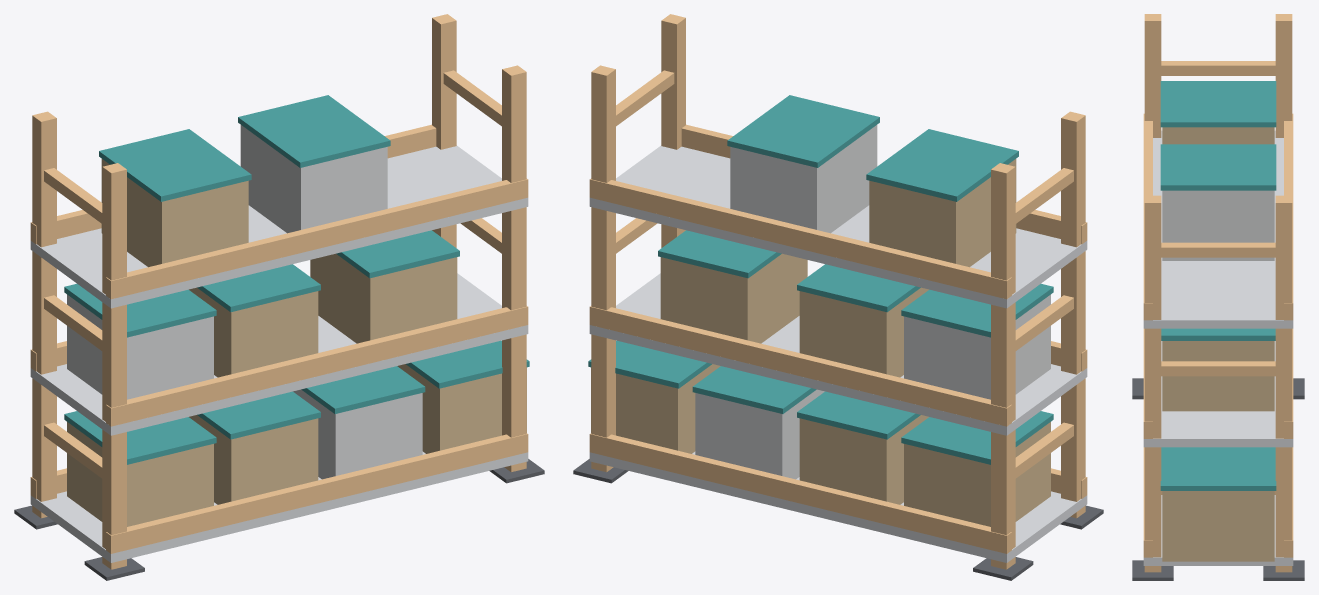
The model's file is chocolate-and-confectionery-factory-stock-shelf-run-9153a821__36798.glb.
3 views of the same model, side by side, from view 1: azimuth 30°, elevation 25°; view 2: azimuth 150°, elevation 25°; view 3: azimuth 270°, elevation 25° (orthographic). The views are drawn at different scales.
Parts seen in each view (by area): view 1: stock-shelf-run; view 2: stock-shelf-run; view 3: stock-shelf-run.
Boxes of the visible parts, x1,y1,x2,y2 form: stock-shelf-run: [14, 14, 544, 580]; stock-shelf-run: [573, 14, 1103, 580]; stock-shelf-run: [1132, 14, 1304, 580].
Bounding box in the file's own units: 2.52 × 2.2 × 0.9199.
